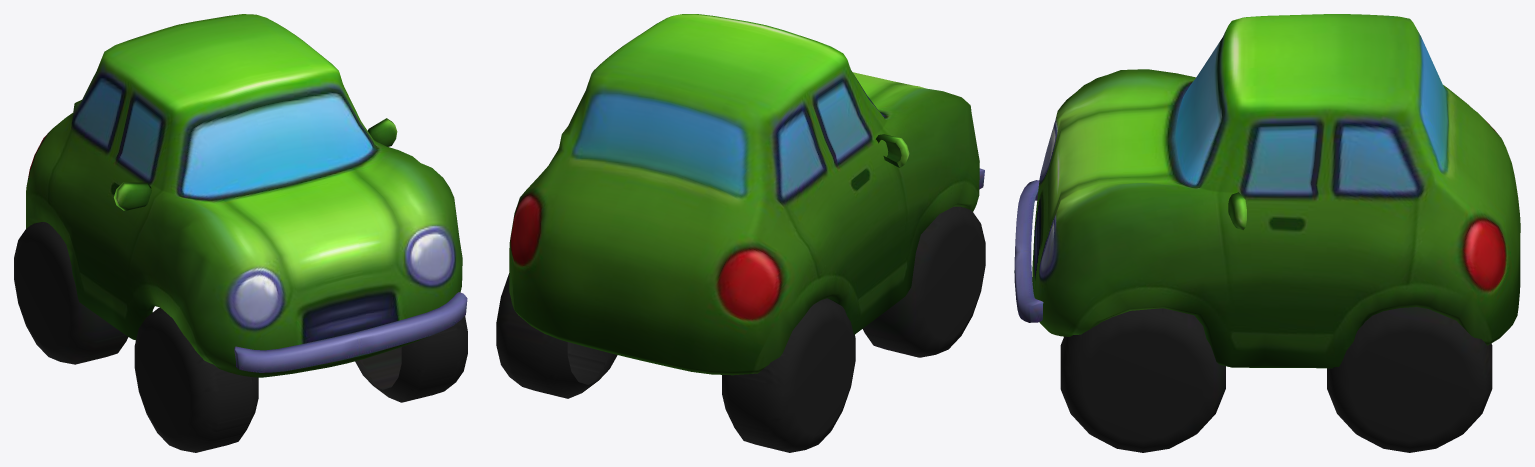
Rendered from XanhLa.fbx.
3 renders of one model, left to right at view 1: azimuth 30°, elevation 25°; view 2: azimuth 150°, elevation 25°; view 3: azimuth 270°, elevation 25°, orthographic. The views are drawn at different scales.
Parts seen in each view (by area): view 1: XanhLa, XanhLaBanh; view 2: XanhLa, XanhLaBanh; view 3: XanhLa, XanhLaBanh.
Part boxes in pixels (x1=…): XanhLa: x1=26, y1=14, x2=467, y2=377; XanhLaBanh: x1=14, y1=222, x2=467, y2=452; XanhLa: x1=509, y1=14, x2=984, y2=375; XanhLaBanh: x1=496, y1=206, x2=985, y2=452; XanhLa: x1=1014, y1=14, x2=1520, y2=368; XanhLaBanh: x1=1060, y1=307, x2=1492, y2=452.
Bounding box in the file's own units: 1.76 × 2.49 × 1.85.
